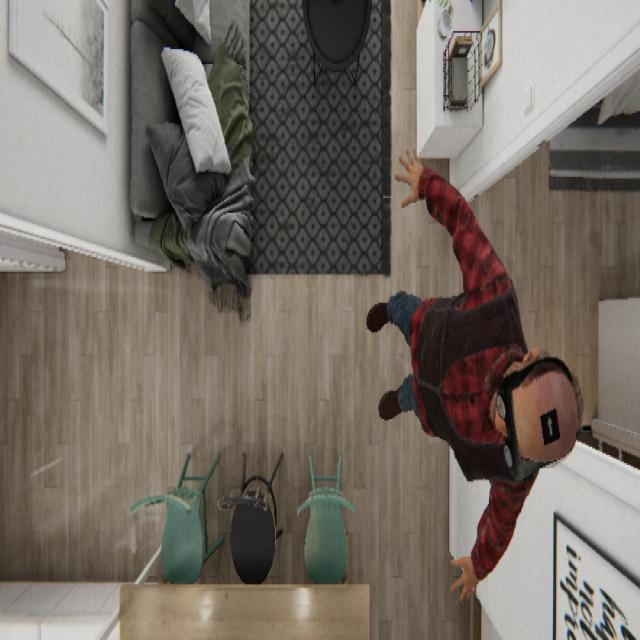Human: (365, 146, 584, 602)
UnityLogo: (501, 352, 584, 478), (538, 404, 560, 446)
